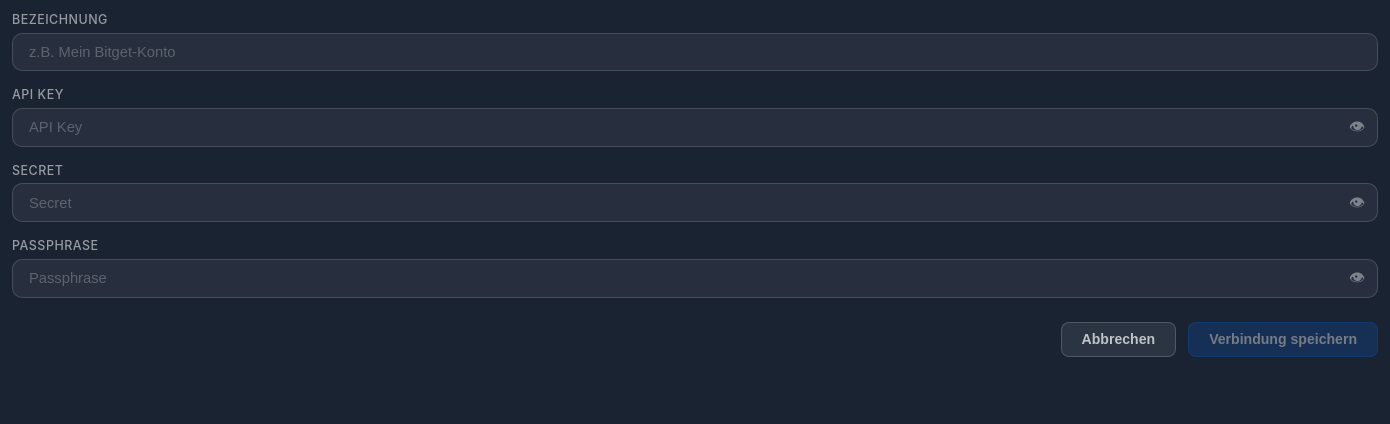
Test: CredentialForm › shows error message when POST fails
In the field labelled "Bezeichnung": (695, 52) [12, 33, 1378, 71], type "Mein Konto"
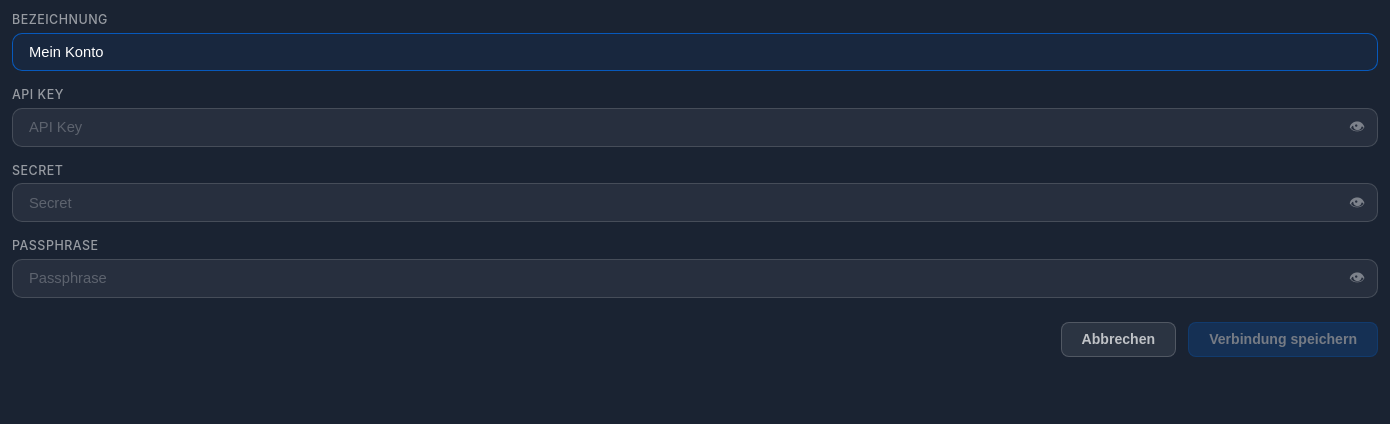
In the password field labelled "API Key": (695, 127) [12, 108, 1378, 147], type "testapikey"
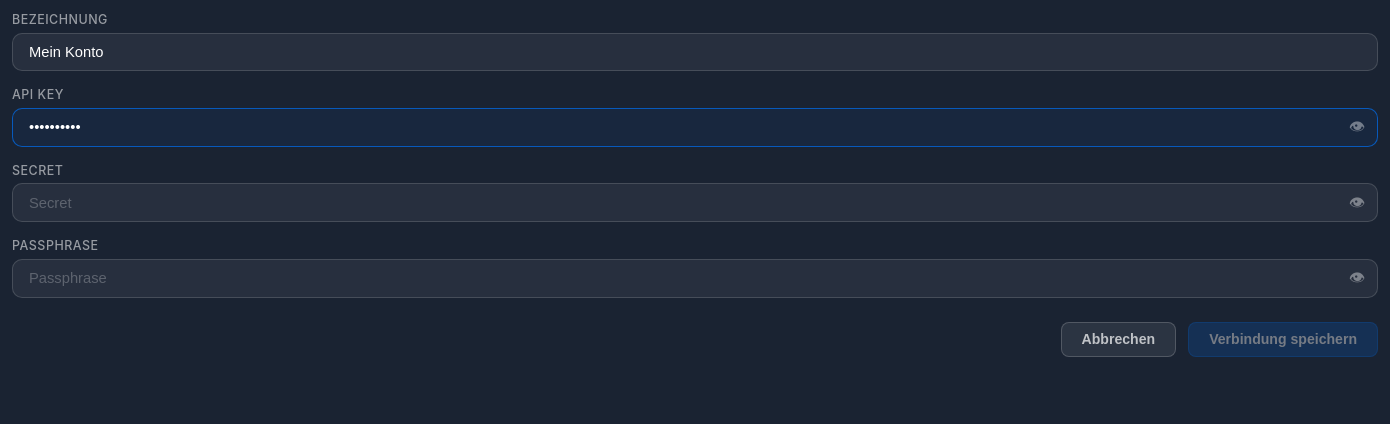
In the password field labelled "Secret": (695, 203) [12, 183, 1378, 222], type "testsecret"
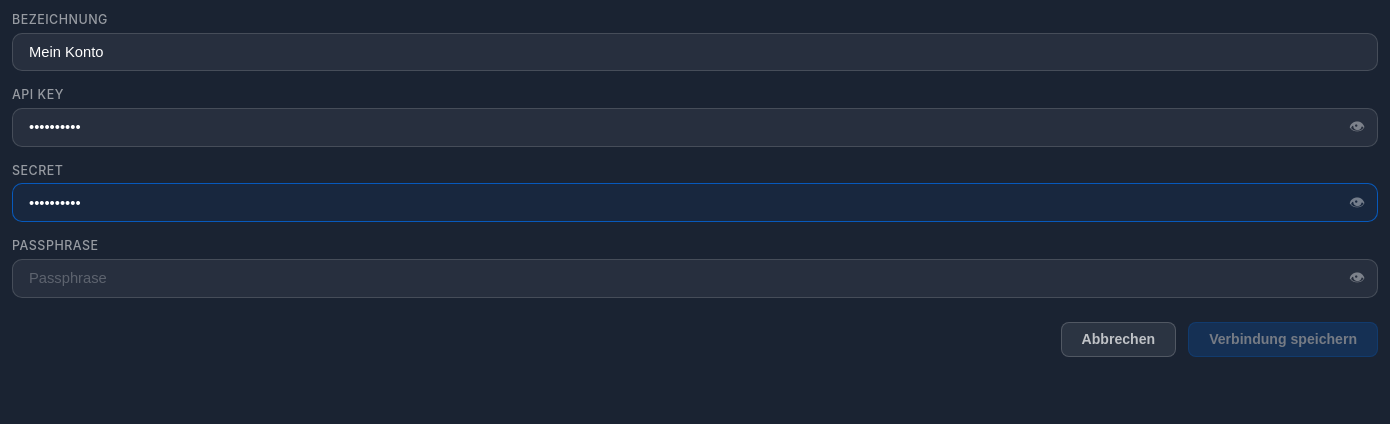
In the password field labelled "Passphrase": (695, 278) [12, 259, 1378, 298], type "testpass"
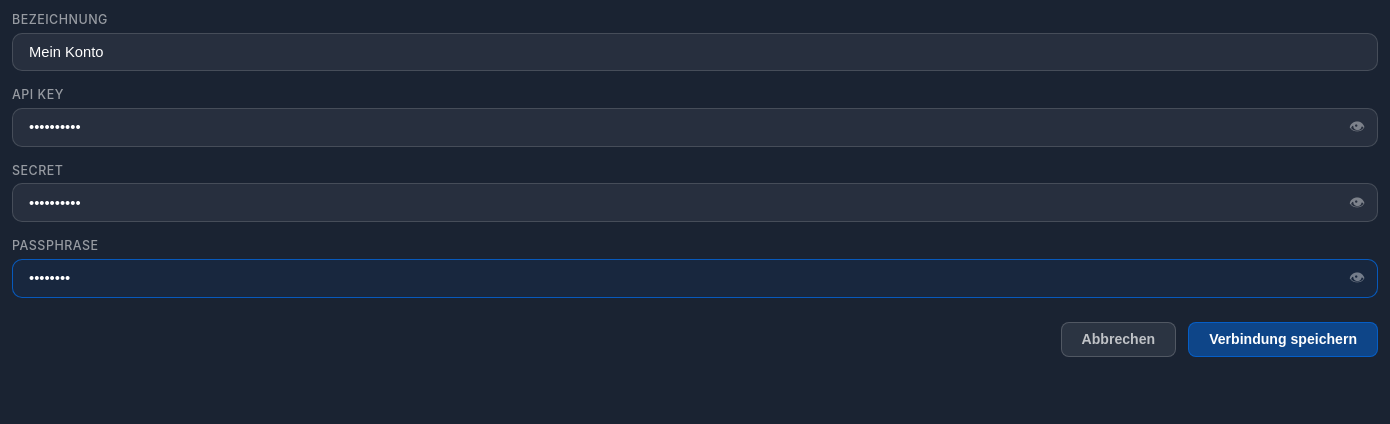
Click the button "Verbindung speichern": (1283, 339) [1188, 322, 1378, 357]
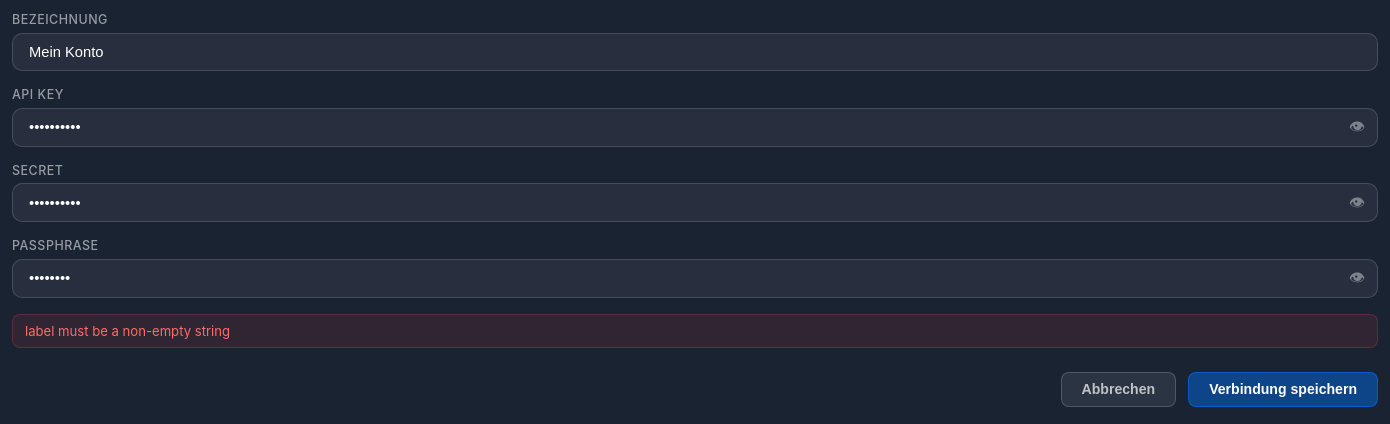
Expected: the message "label must be a non-empty string" is shown, [12, 314, 1378, 348]
